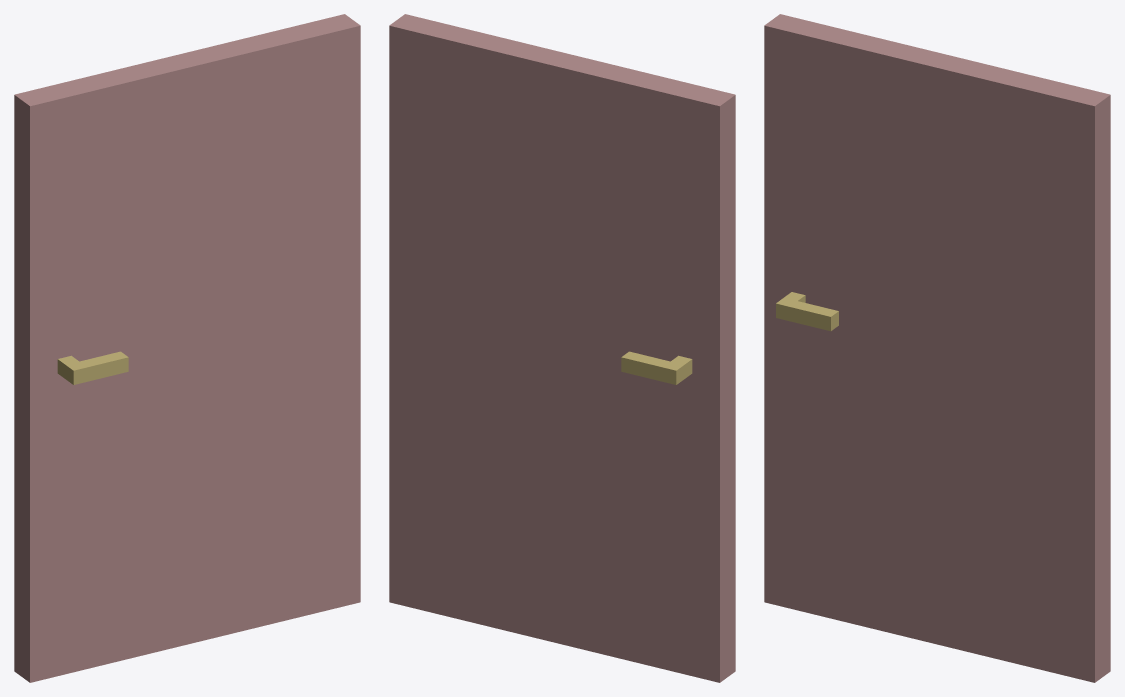
File: Door00-0.gltf
3 renders of one model, left to right at view 1: azimuth 30°, elevation 25°; view 2: azimuth 150°, elevation 25°; view 3: azimuth 330°, elevation 25°, orthographic.
Size of the model in its own units: 24 by 40 by 6.
